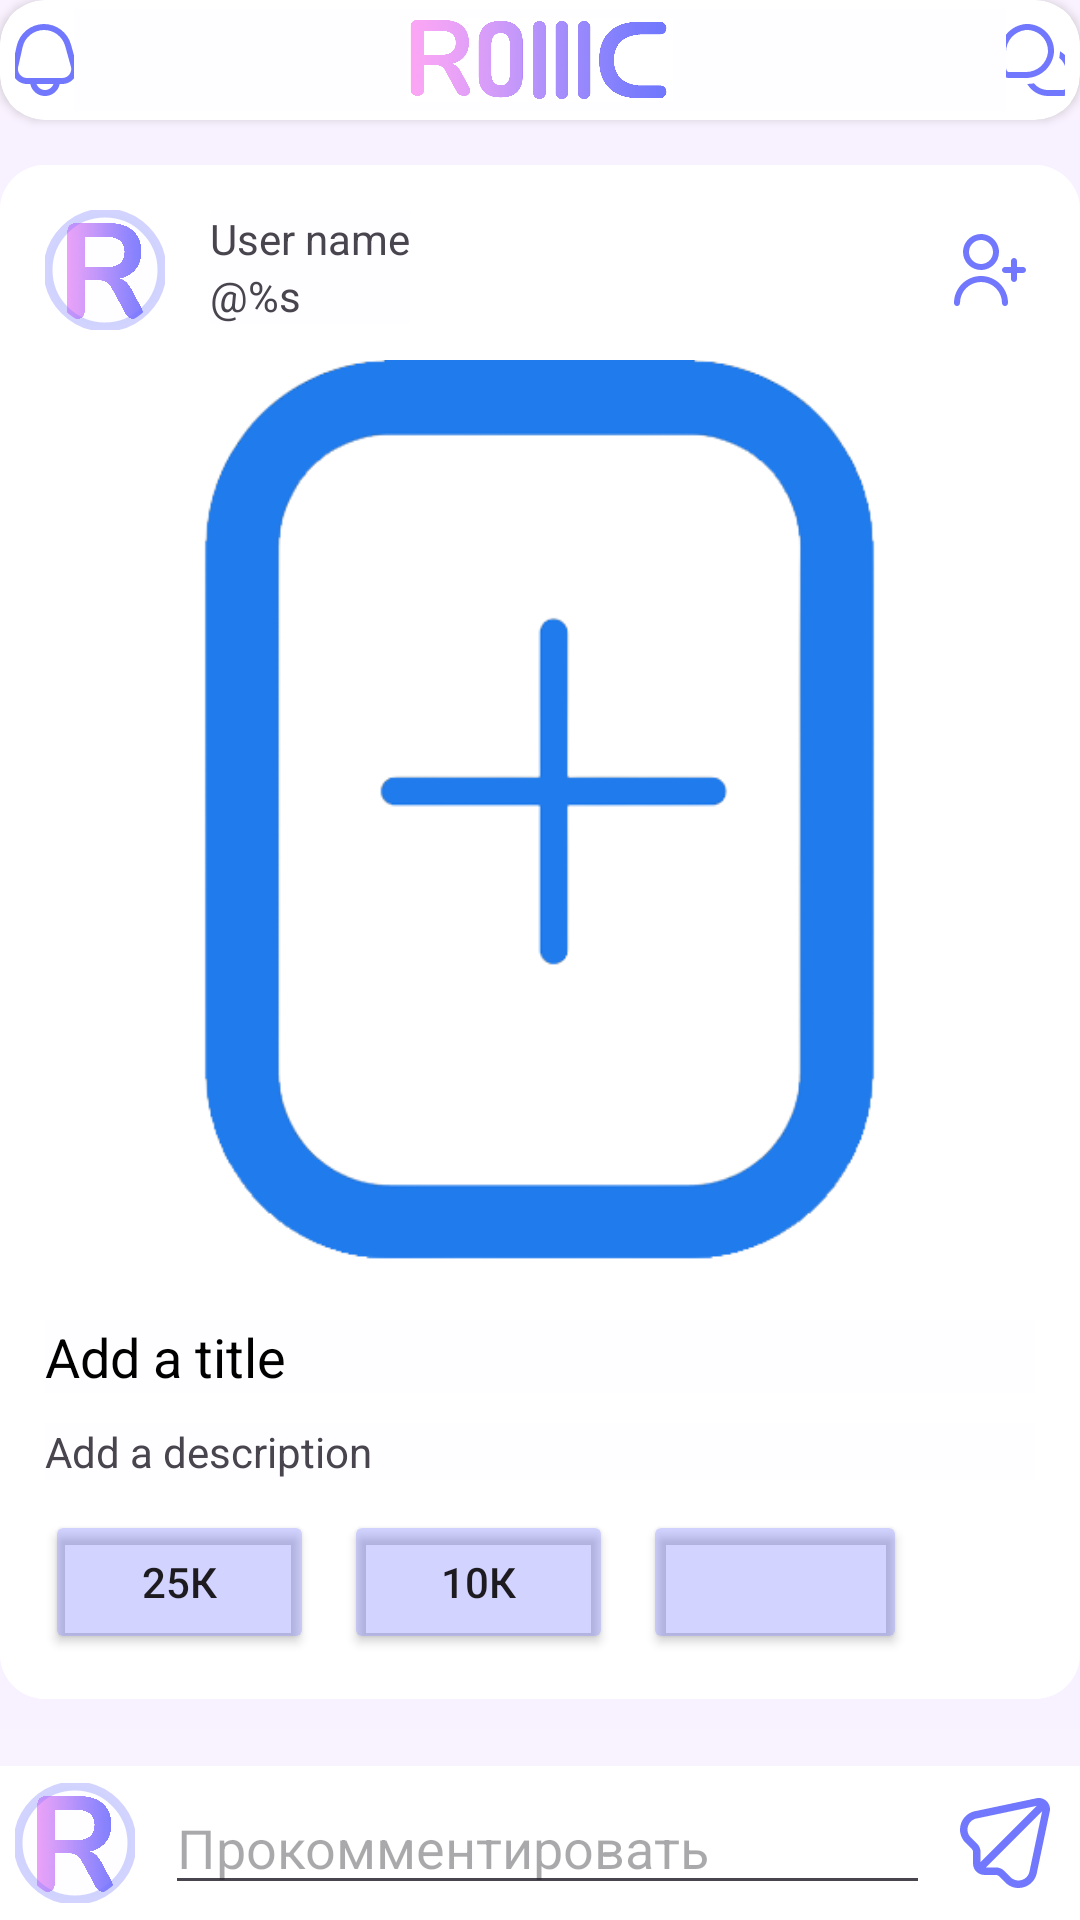

Point at icon controls on the screen. Image size 1080×1920, points as point (x, y).
Notifications: point (44, 60)
send: point (1005, 1843)
Subscribe button: point (990, 270)
